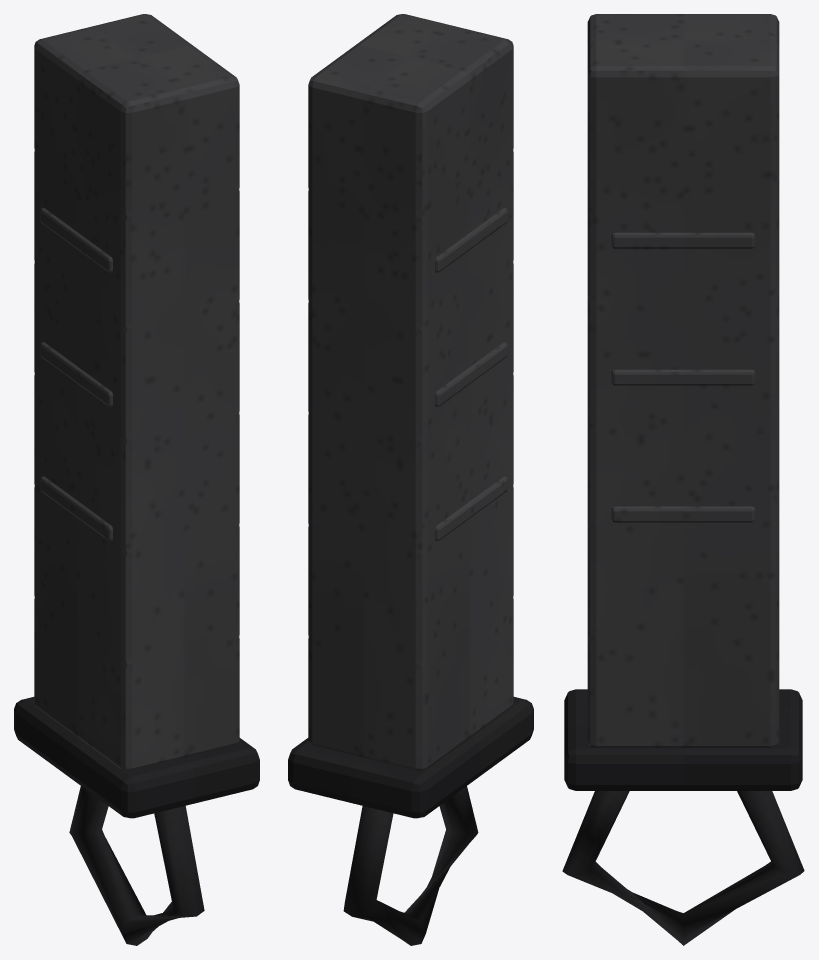
File: mag_quick_light.glb
3 renders of one model, left to right at view 1: azimuth 30°, elevation 25°; view 2: azimuth 150°, elevation 25°; view 3: azimuth 270°, elevation 25°, orthographic.
Visible parts, largest first — view 1: mag, mag_base, tab, mag_rib0, mag_rib1, mag_rib2; view 2: mag, mag_base, tab, mag_rib0, mag_rib1, mag_rib2; view 3: mag, mag_base, tab, mag_rib1, mag_rib2, mag_rib0.
Part boxes in pixels (x1,y1,x2,y2): mag: (34, 14, 239, 770); mag_base: (14, 697, 259, 818); tab: (69, 786, 204, 945); mag_rib0: (40, 208, 112, 272); mag_rib1: (40, 342, 112, 406); mag_rib2: (40, 476, 112, 540); mag: (308, 14, 513, 770); mag_base: (288, 697, 533, 818); tab: (343, 786, 478, 945); mag_rib0: (435, 208, 507, 272); mag_rib1: (435, 342, 507, 406); mag_rib2: (435, 476, 507, 540); mag: (587, 14, 779, 747); mag_base: (564, 689, 802, 790); tab: (562, 791, 804, 945); mag_rib1: (611, 369, 755, 385); mag_rib2: (611, 506, 755, 522); mag_rib0: (611, 232, 755, 248).
Bounding box in the file's own units: 0.028 × 0.172 × 0.0417.
3 materials, 3 textured.
